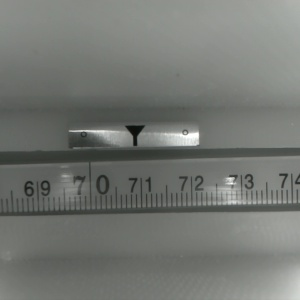0: (94, 175, 109, 195)
1: (145, 177, 152, 193)
2: (194, 176, 203, 191)
3: (244, 174, 253, 189)
4: (294, 172, 300, 188)
6: (23, 180, 34, 196)
7: (72, 176, 85, 195), (127, 177, 138, 193), (278, 173, 288, 189), (178, 176, 188, 191), (227, 175, 237, 189)
9: (39, 180, 50, 196)
finger: (122, 125, 145, 146)
